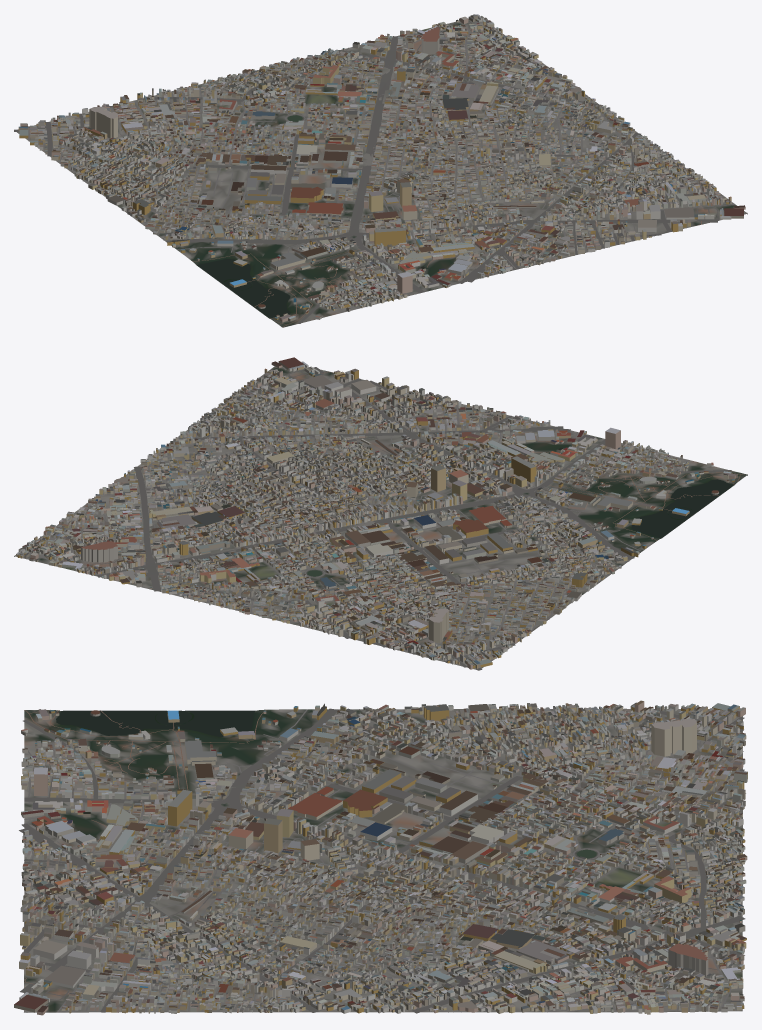
The picture shows the model from 3 angles, top to bottom: view 1: azimuth 30°, elevation 25°; view 2: azimuth 150°, elevation 25°; view 3: azimuth 270°, elevation 25°; orthographic projection. The views are drawn at different scales.
Visible parts, largest first — view 1: buildings, ground, roads, water; view 2: buildings, ground, roads, water; view 3: buildings, ground, roads, water.
Part boxes in pixels (x1,y1,x2,y2): buildings: (18, 14, 745, 322); ground: (17, 19, 747, 327); roads: (14, 21, 747, 327); water: (197, 115, 302, 317); buildings: (16, 357, 737, 669); ground: (14, 366, 747, 669); roads: (23, 366, 744, 670); water: (307, 479, 732, 576); buildings: (14, 700, 747, 1015); ground: (24, 708, 742, 1012); roads: (19, 708, 745, 1013); water: (56, 710, 596, 858).
Bounding box in the file's own units: 1424 × 68.17 × 1430.
